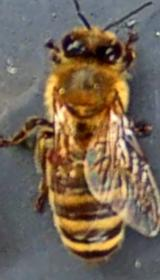varroa_mite: (34, 140, 81, 171)
